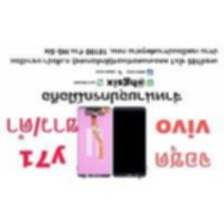phone: (74, 104, 114, 181), (111, 104, 149, 179)
